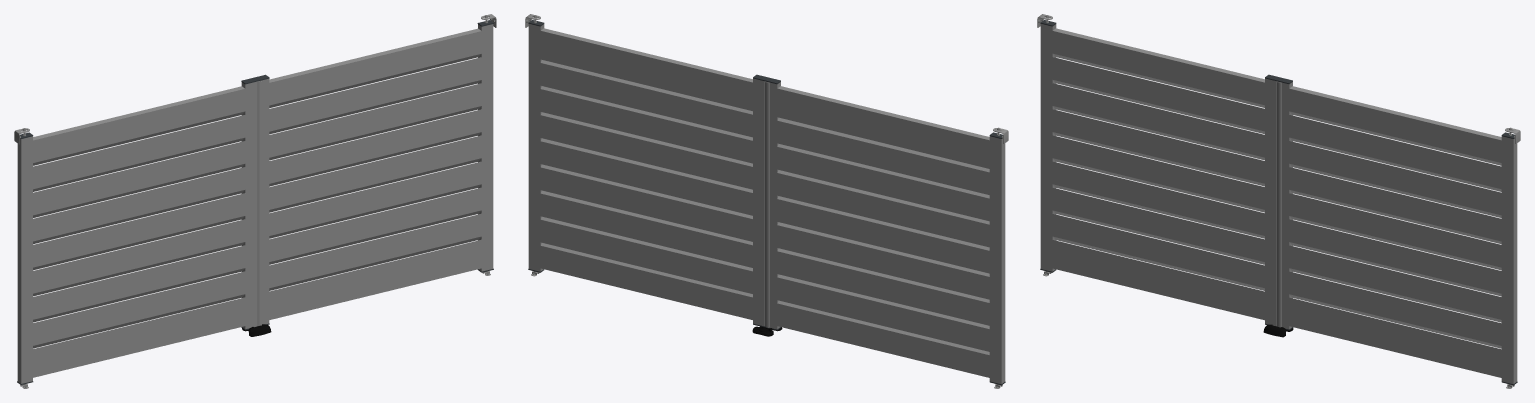
3 views of the same model, side by side, from view 1: azimuth 30°, elevation 25°; view 2: azimuth 150°, elevation 25°; view 3: azimuth 330°, elevation 25° (orthographic).
Visible parts, largest first — view 1: Shape176, Shape107412842, Shape003, Shape107412841, Shape107412843, Shape107412844, Shape107412845, Shape107412846, Shape107412847, Shape107412848, Shape179, Shape178 (+11 smaller); view 2: Shape003, Shape107412841, Shape3, Shape107412849, Shape182, Shape181, Shape179, Shape180, Shape178, Shape107412846, Shape177, Shape107412843 (+11 smaller); view 3: Shape107412842, Shape176, Shape107412841, Shape003, Shape107412845, Shape107412846, Shape107412847, Shape107412848, Shape181, Shape3, Shape107412844, Shape107412849 (+11 smaller).
Part boxes in pixels (box(x1,y1,x2,y2)): Shape176: box(33, 297, 245, 377); Shape107412842: box(269, 239, 481, 319); Shape003: box(33, 86, 245, 165); Shape107412841: box(269, 28, 481, 107); Shape107412843: box(269, 83, 481, 160); Shape107412844: box(269, 109, 481, 186); Shape107412845: box(269, 135, 481, 212); Shape107412846: box(269, 161, 481, 238); Shape107412847: box(269, 187, 481, 264); Shape107412848: box(269, 213, 481, 290); Shape179: box(33, 193, 245, 270); Shape178: box(33, 167, 245, 244); Shape003: box(777, 86, 989, 168); Shape107412841: box(540, 28, 752, 111); Shape3: box(777, 117, 989, 194); Shape107412849: box(540, 60, 752, 137); Shape182: box(777, 274, 989, 351); Shape181: box(777, 248, 989, 325); Shape179: box(777, 196, 989, 273); Shape180: box(777, 222, 989, 299); Shape178: box(777, 170, 989, 247); Shape107412846: box(540, 164, 752, 241); Shape177: box(777, 144, 989, 221); Shape107412843: box(540, 86, 752, 163); Shape107412842: box(1289, 297, 1501, 377); Shape176: box(1052, 240, 1264, 320); Shape107412841: box(1289, 86, 1501, 165); Shape003: box(1052, 28, 1264, 107); Shape107412845: box(1289, 193, 1501, 270); Shape107412846: box(1289, 219, 1501, 296); Shape107412847: box(1289, 245, 1501, 322); Shape107412848: box(1289, 271, 1501, 348); Shape181: box(1052, 187, 1264, 264); Shape3: box(1052, 57, 1264, 134); Shape107412844: box(1289, 167, 1501, 244); Shape107412849: box(1289, 115, 1501, 191).
Size of the model in its own units: 3260 by 1696 by 146.
Materials: 7 (2 with a texture image).
